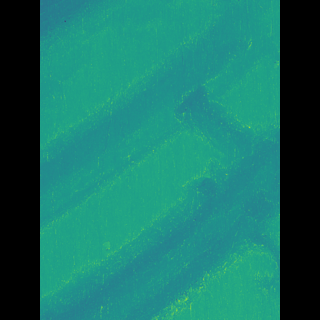Loch: (69, 0, 246, 235), (70, 92, 252, 319)
